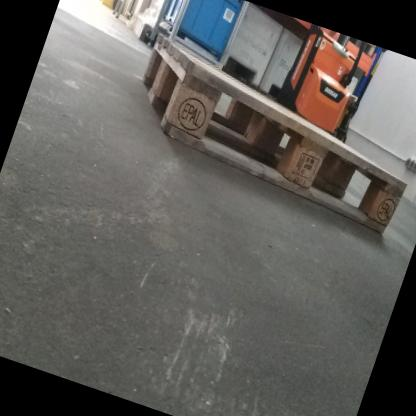BoxFace: (139, 30, 412, 240)
